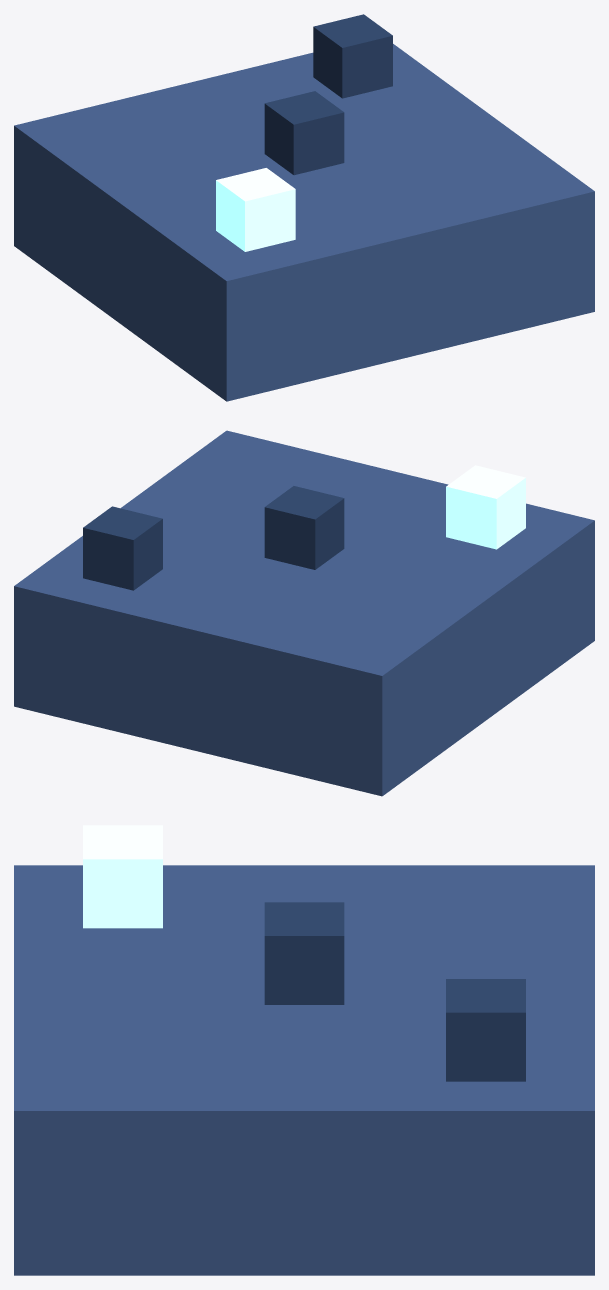
File: static.glb
The picture shows the model from 3 angles, top to bottom: view 1: azimuth 30°, elevation 25°; view 2: azimuth 150°, elevation 25°; view 3: azimuth 270°, elevation 25°; orthographic projection. The views are drawn at different scales.
Visible parts, largest first — view 1: Cube, Cube.002, Cube.003, Cube.001; view 2: Cube, Cube.002, Cube.003, Cube.001; view 3: Cube, Cube.002, Cube.001, Cube.003.
Boxes of the visible parts, x1,y1,x2,y2 form: Cube: [14, 44, 594, 401]; Cube.002: [264, 91, 344, 175]; Cube.003: [313, 14, 392, 98]; Cube.001: [216, 168, 295, 251]; Cube: [14, 430, 594, 796]; Cube.002: [264, 486, 344, 569]; Cube.003: [83, 506, 162, 590]; Cube.001: [446, 465, 525, 549]; Cube: [14, 865, 594, 1275]; Cube.002: [264, 902, 344, 1004]; Cube.001: [83, 825, 162, 928]; Cube.003: [446, 979, 525, 1081].
Bounding box in the file's own units: 1.6 × 0.71 × 1.6.
